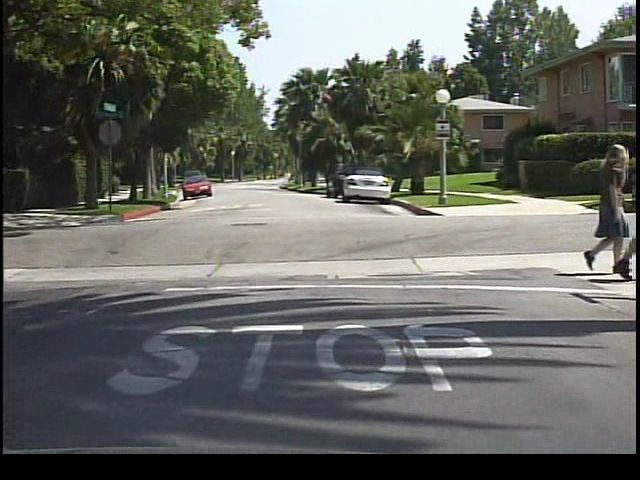person: (576, 139, 633, 276)
